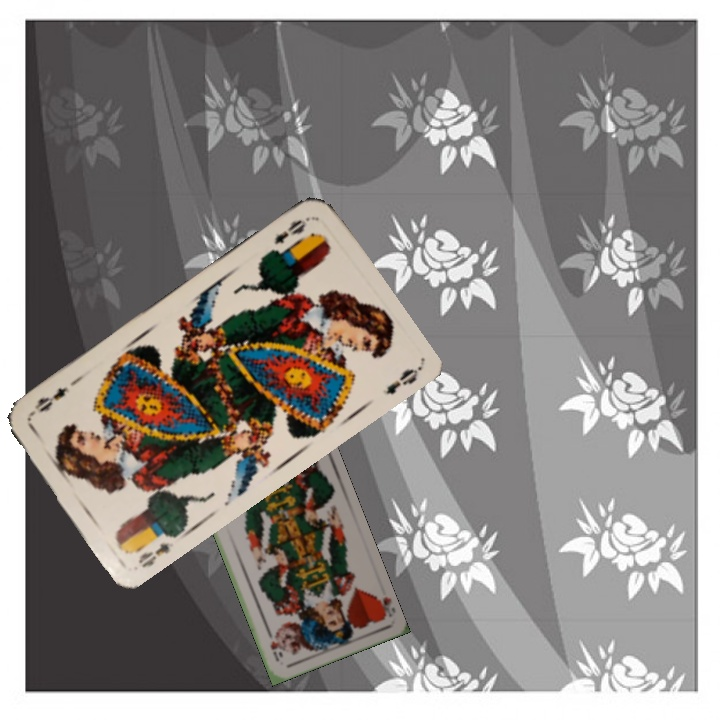EO: (270, 212, 313, 247), (134, 537, 177, 571)
HO: (369, 589, 395, 622)
